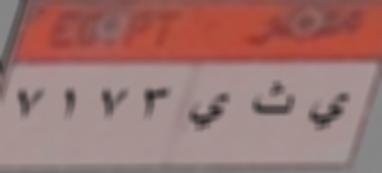1: (54, 84, 82, 130)
3: (141, 81, 175, 124)
7: (13, 83, 46, 125), (98, 81, 128, 122)
thaa: (249, 75, 294, 124)
yaa: (186, 87, 231, 136), (306, 86, 349, 134)
